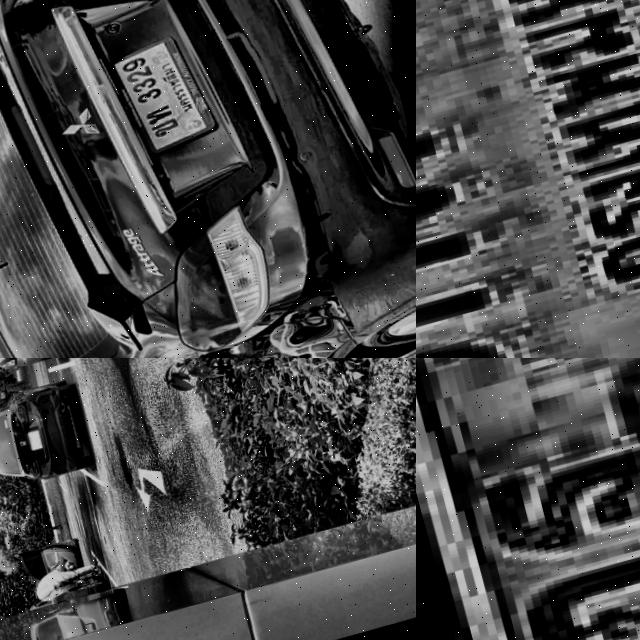license-plate: (416, 0, 640, 358), (416, 358, 640, 640), (100, 24, 222, 166), (24, 429, 42, 451)
